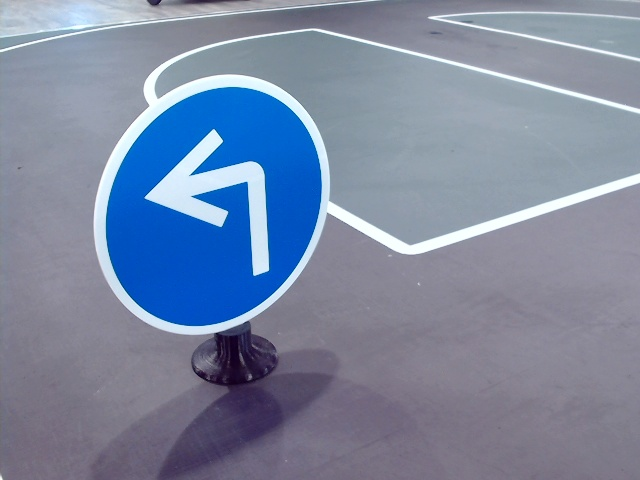turn_left: (147, 131, 280, 279)
